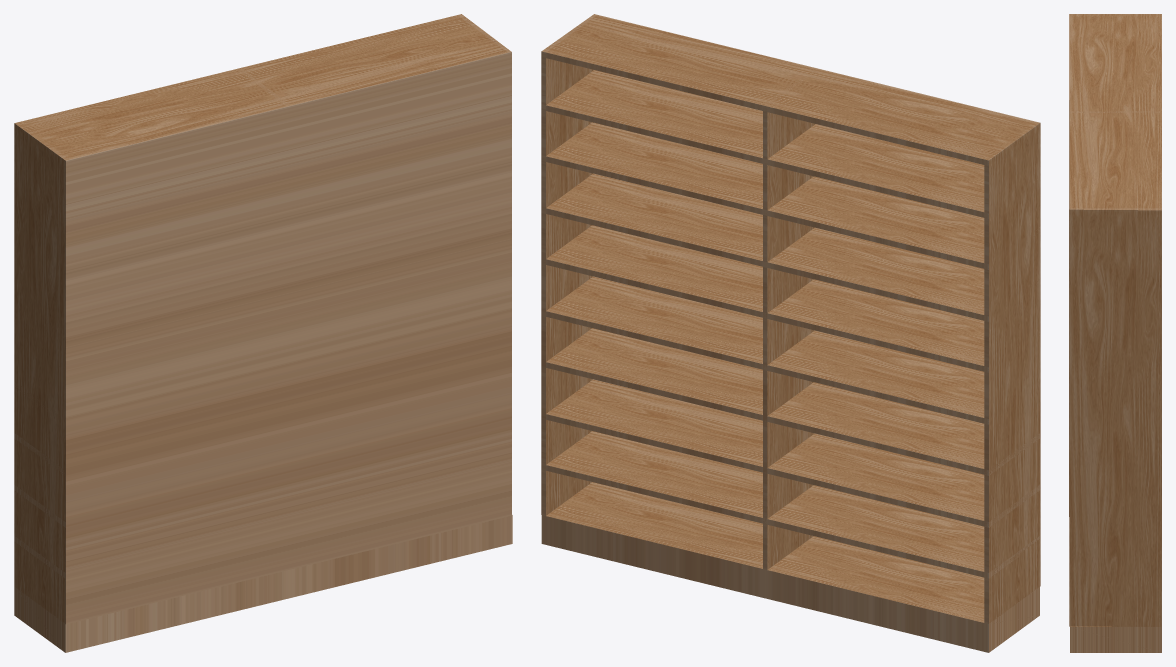
File: Simple_CDshelf.fbx
The picture shows the model from 3 angles, left to right: view 1: azimuth 30°, elevation 25°; view 2: azimuth 150°, elevation 25°; view 3: azimuth 270°, elevation 25°; orthographic projection. The views are drawn at different scales.
Visible parts, largest first — view 1: Plane.011; view 2: Plane.011; view 3: Plane.011.
Boxes of the visible parts, x1,y1,x2,y2 form: Plane.011: (14, 14, 512, 652); Plane.011: (541, 14, 1040, 652); Plane.011: (1069, 14, 1161, 652).
Size of the model in its own units: 1010 by 1062 by 202.
Materials: 1 (1 with a texture image).
